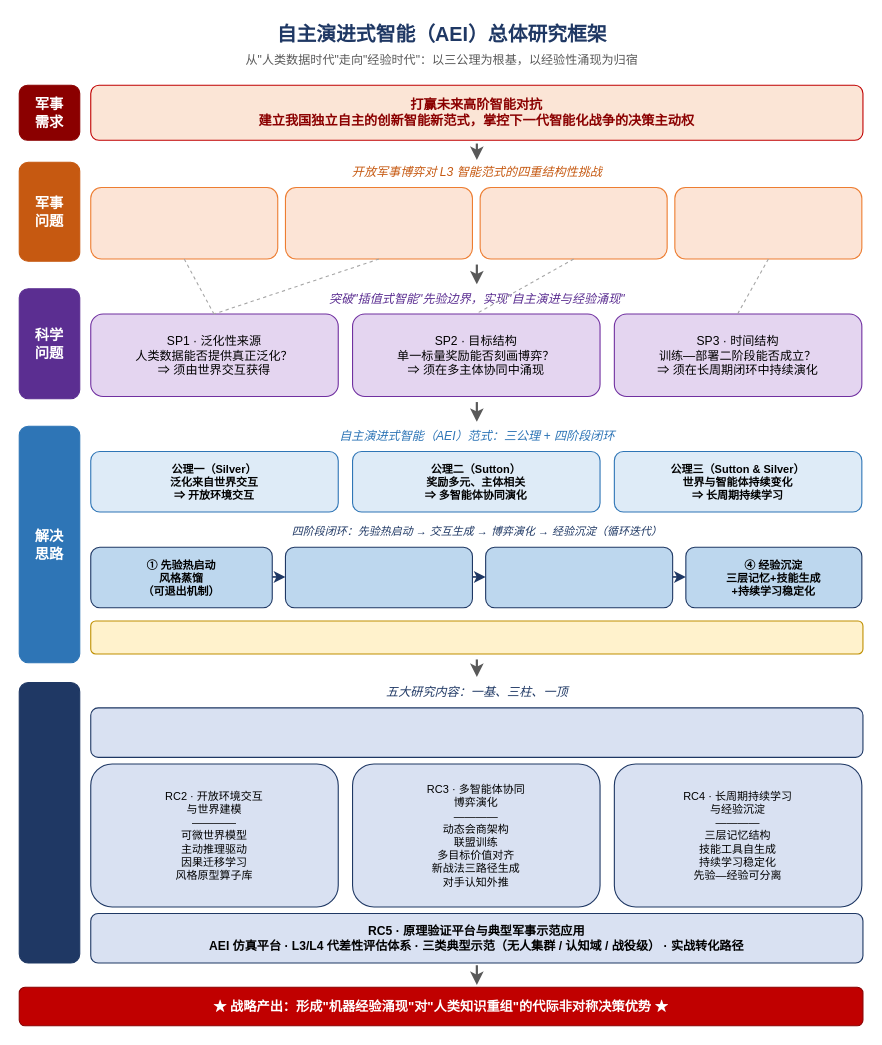
Some shapes in this 882 by 1045 pixel diagram are drawn without their labels. Each missing label, with the centre of its shape:
RC1 · AEI 基础理论框架 形式化定义 · 经验性涌现机理 · 三公理一致性 · 先验—经验融合理论: [476,732]
⇒ 经验性涌现（Experiential Emergence）：从"人类知识重组"到"机器经验涌现": [476,637]
① 对手主动演化 博弈结构开放: [184,222]
② 交互生成 世界模型+主动推理 +因果推断: [378,577]
② 高价值样本极稀缺 试错代价不可逆: [378,222]
③ 决策目标多元耦合 无统一标量胜负函数: [573,222]
③ 博弈演化 会商架构+联盟训练 +新战法生成: [579,577]
④ 环境与智能体 双重非平稳: [768,222]
研究 内容: [49,822]
